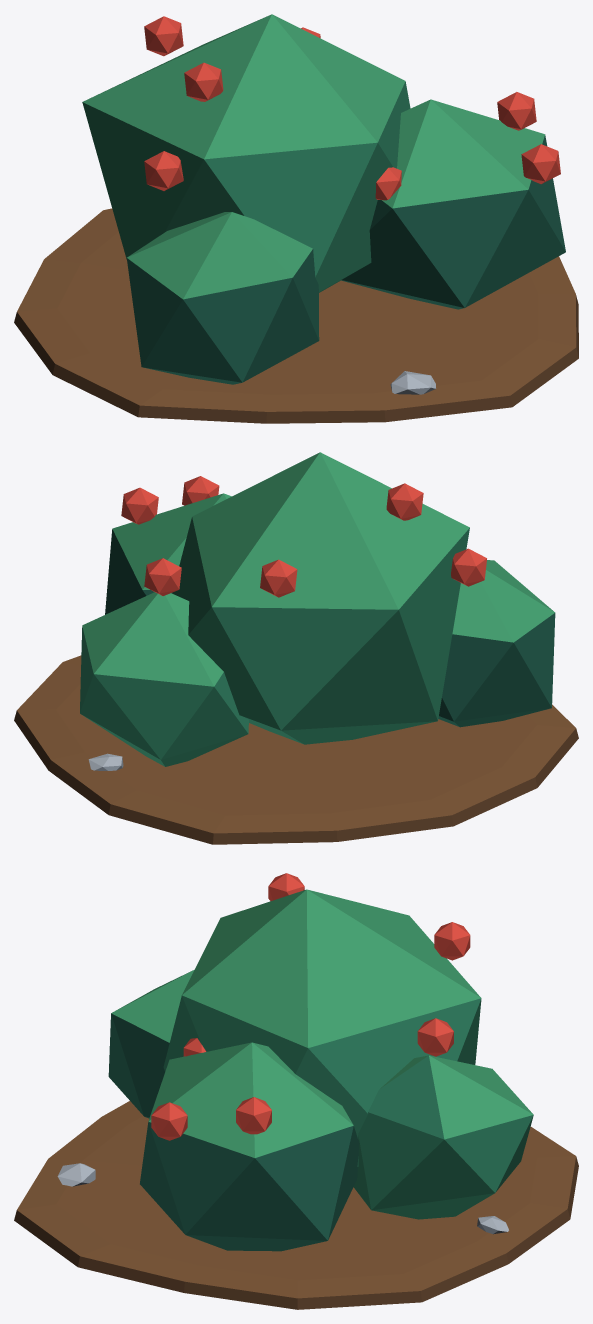
Rendered from Obst_Bush.fbx.
3 renders of one model, top to bottom at view 1: azimuth 30°, elevation 25°; view 2: azimuth 150°, elevation 25°; view 3: azimuth 270°, elevation 25°, orthographic. The views are drawn at different scales.
Parts seen in each view (by area): view 1: Obst_Bush.001; view 2: Obst_Bush.001; view 3: Obst_Bush.001.
Boxes of the visible parts, x1,y1,x2,y2 form: Obst_Bush.001: (14, 14, 578, 423); Obst_Bush.001: (14, 452, 578, 844); Obst_Bush.001: (14, 873, 578, 1309).
Bounding box in the file's own units: 1.57 × 0.9263 × 1.59.
